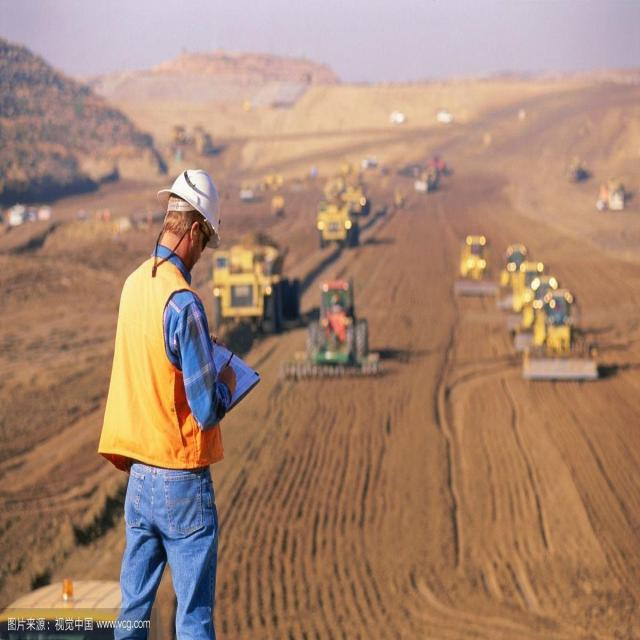helmet: (165, 165, 220, 226)
person: (100, 149, 254, 640)
vest: (99, 252, 222, 472)
